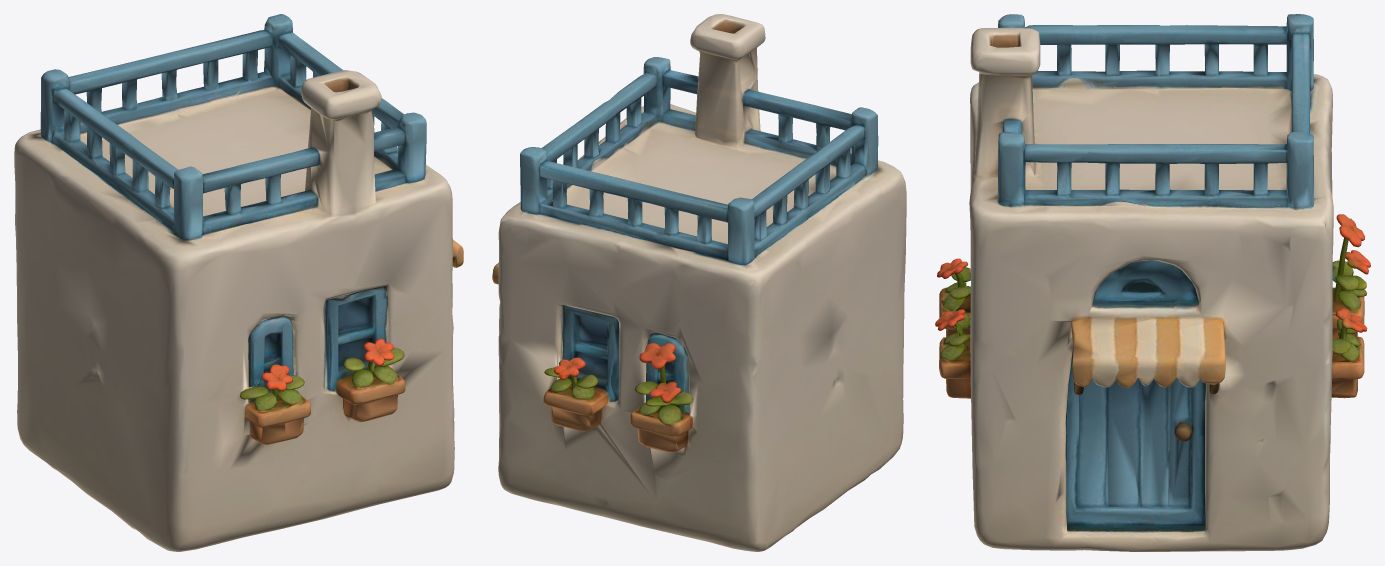
Rendered from house_b.glb.
3 views of the same model, side by side, from view 1: azimuth 30°, elevation 25°; view 2: azimuth 150°, elevation 25°; view 3: azimuth 270°, elevation 25° (orthographic). The views are drawn at different scales.
Visible parts, largest first — view 1: tripo_node_950d2b46-4946-4d9e-9a48-cf6e8636a5b3; view 2: tripo_node_950d2b46-4946-4d9e-9a48-cf6e8636a5b3; view 3: tripo_node_950d2b46-4946-4d9e-9a48-cf6e8636a5b3.
Part boxes in pixels (x1,y1,x2,y2): tripo_node_950d2b46-4946-4d9e-9a48-cf6e8636a5b3: (14, 14, 463, 551); tripo_node_950d2b46-4946-4d9e-9a48-cf6e8636a5b3: (492, 14, 906, 551); tripo_node_950d2b46-4946-4d9e-9a48-cf6e8636a5b3: (935, 14, 1370, 551).
Size of the model in its own units: 0.8297 by 0.9998 by 0.8564.
1 material, 1 textured.
